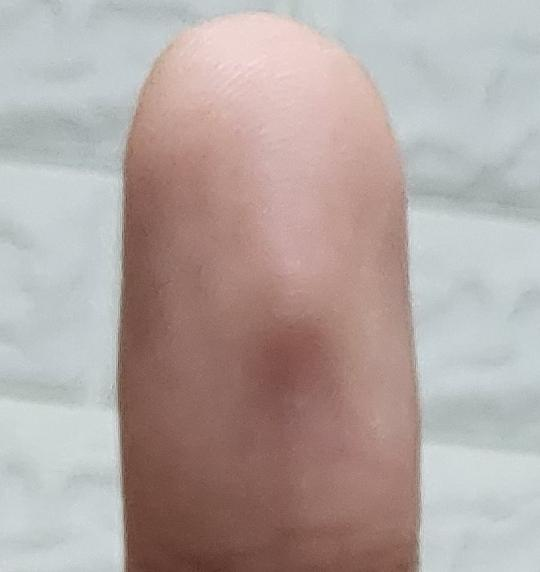Fingerprints: (119, 12, 422, 537)
